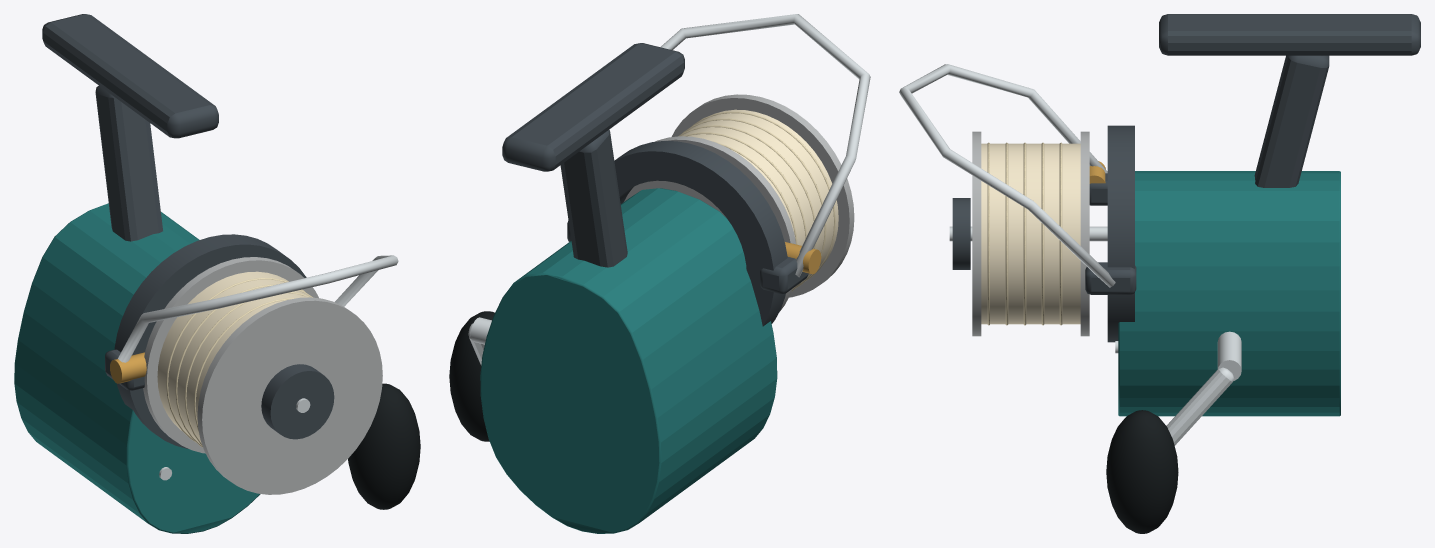
The model's file is 11_Spinning_Reel.glb.
3 renders of one model, left to right at view 1: azimuth 30°, elevation 25°; view 2: azimuth 150°, elevation 25°; view 3: azimuth 270°, elevation 25°, orthographic. The views are drawn at different scales.
Visible parts, largest first — view 1: 01_gearcase_stem_and_mounting_foot, 02_spool_line_and_bail, 03_rotor_and_crank_handle; view 2: 01_gearcase_stem_and_mounting_foot, 02_spool_line_and_bail, 03_rotor_and_crank_handle; view 3: 01_gearcase_stem_and_mounting_foot, 02_spool_line_and_bail, 03_rotor_and_crank_handle.
Boxes of the visible parts, left/top/right/bottom form: 01_gearcase_stem_and_mounting_foot: left=14, top=14, right=260, bottom=533; 02_spool_line_and_bail: left=110, top=255, right=398, bottom=494; 03_rotor_and_crank_handle: left=105, top=234, right=420, bottom=509; 01_gearcase_stem_and_mounting_foot: left=480, top=43, right=777, bottom=533; 02_spool_line_and_bail: left=624, top=14, right=870, bottom=312; 03_rotor_and_crank_handle: left=449, top=141, right=808, bottom=441; 01_gearcase_stem_and_mounting_foot: left=1115, top=14, right=1420, bottom=416; 02_spool_line_and_bail: left=899, top=64, right=1115, bottom=336; 03_rotor_and_crank_handle: left=1085, top=125, right=1241, bottom=533.
Size of the model in its own units: 0.1248 by 0.1555 by 0.1733.
